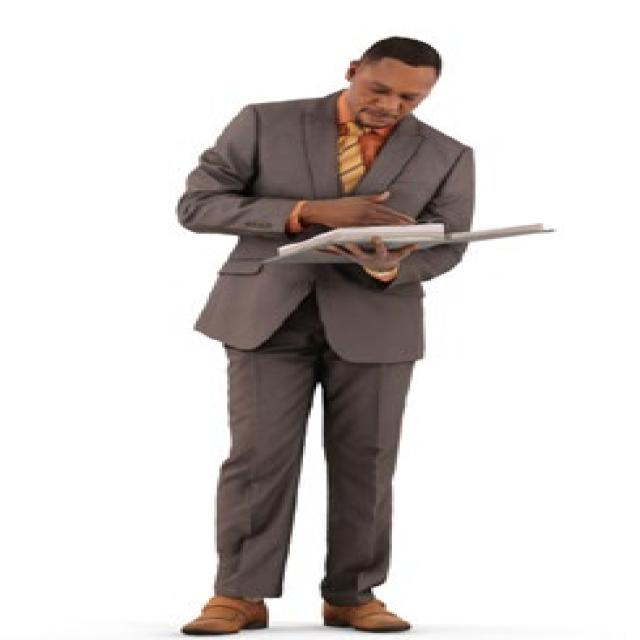standing: (172, 31, 478, 640)
